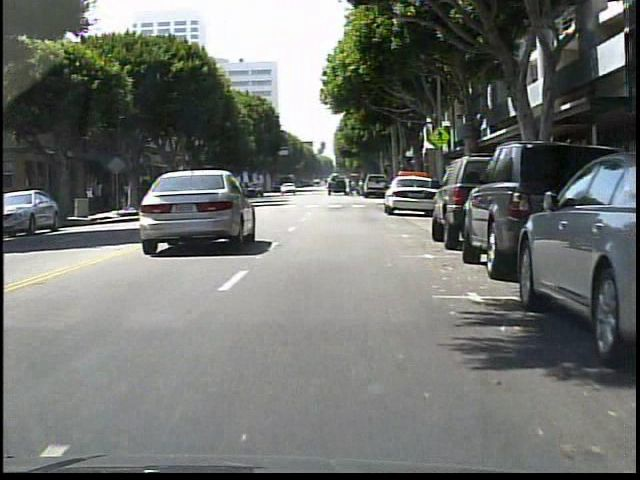person: (93, 177, 106, 214), (124, 181, 132, 207), (348, 175, 349, 196)
